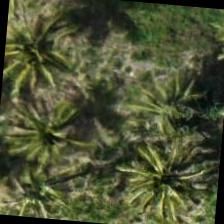Kelapa_Sawit: (124, 60, 222, 158), (4, 83, 102, 181), (31, 129, 130, 223), (121, 133, 220, 223), (1, 6, 85, 102)
